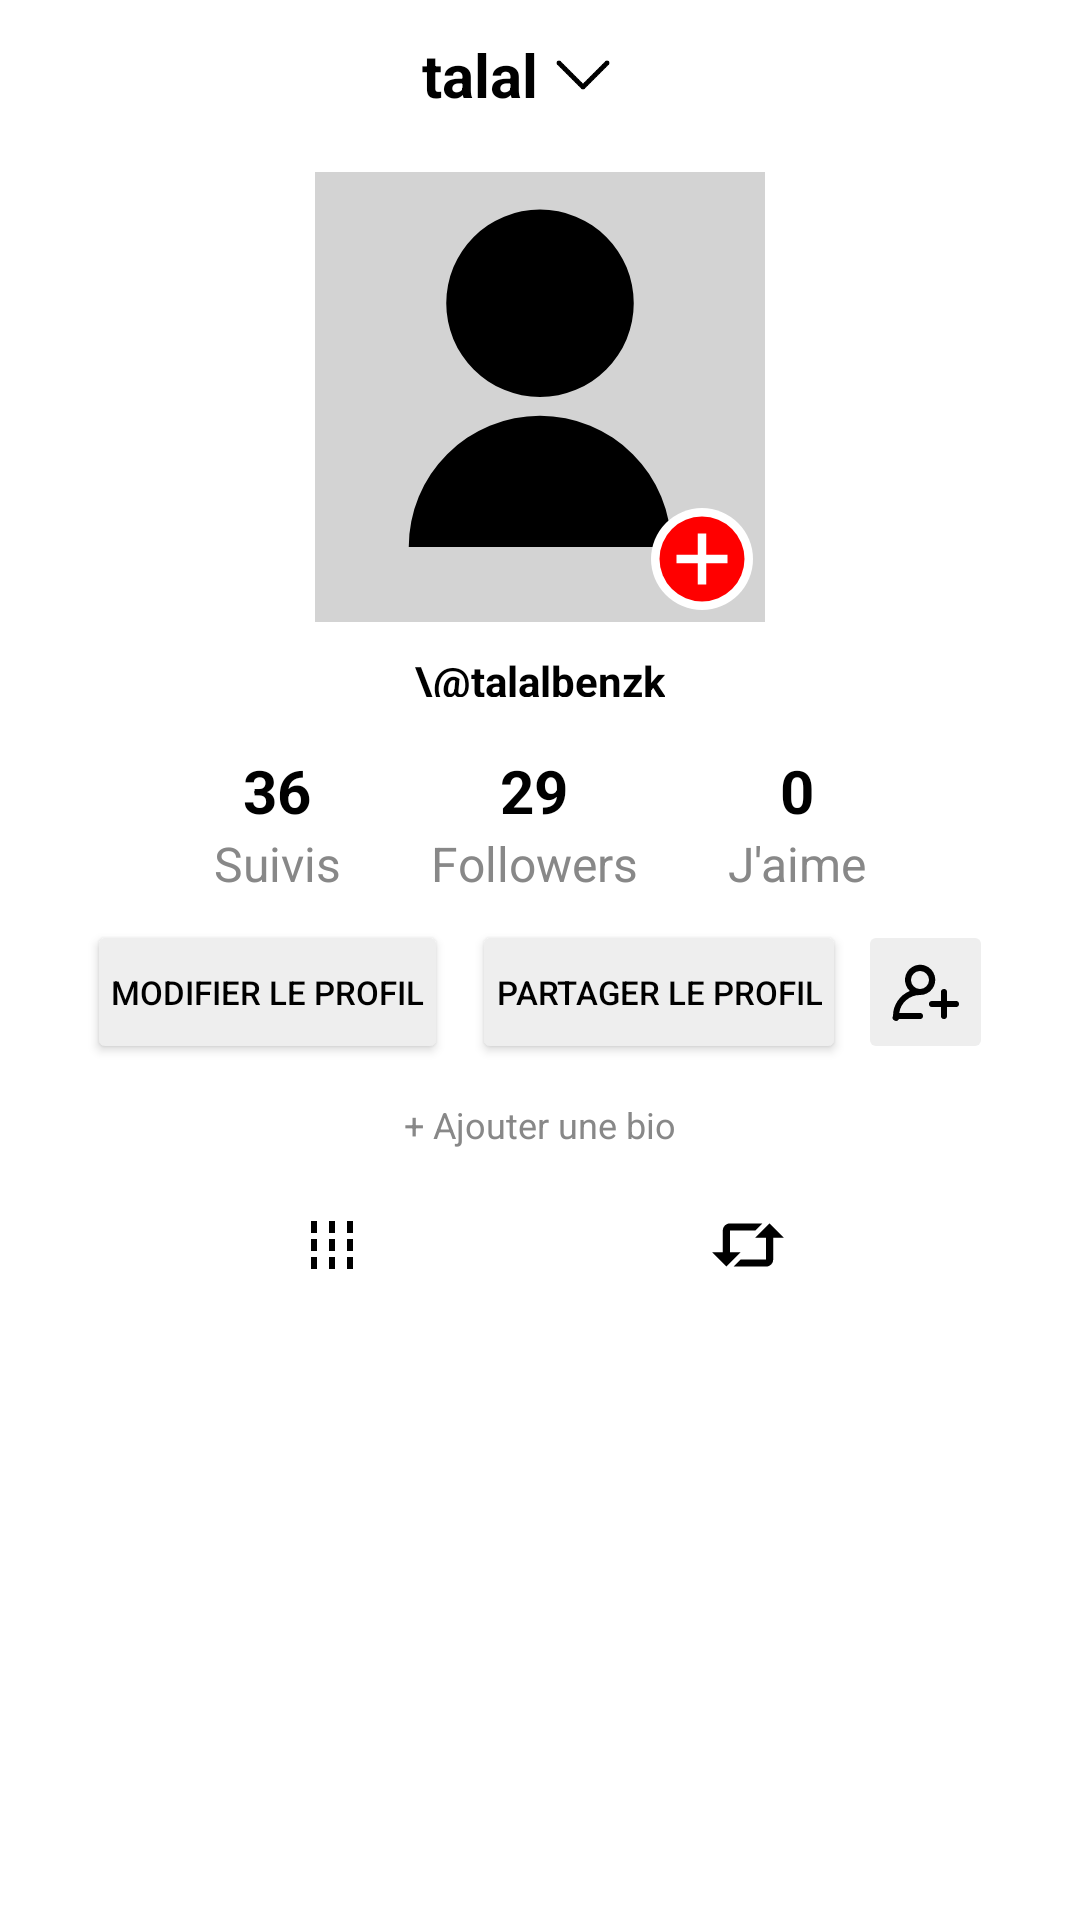

Icon bounding boxes for this 1080px×1920px phone screenshot, format (x1, y1, x2, y2):
down: (556, 60, 610, 90)
Liste de vidéos 1: (311, 1221, 353, 1269)
